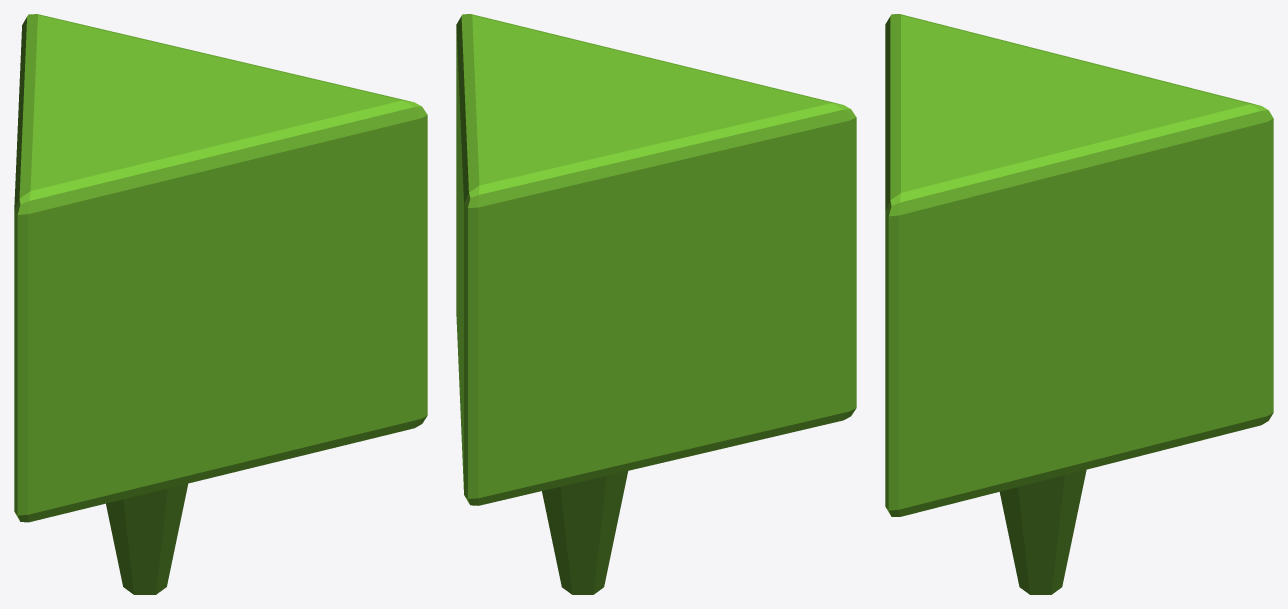
File: pin_4.fbx
The picture shows the model from 3 angles, left to right: view 1: azimuth 30°, elevation 25°; view 2: azimuth 150°, elevation 25°; view 3: azimuth 270°, elevation 25°; orthographic projection. The views are drawn at different scales.
Visible parts, largest first — view 1: Pin4; view 2: Pin4; view 3: Pin4.
Part boxes in pixels (x1,y1,x2,y2): Pin4: (14,14,427,594); Pin4: (456,14,856,594); Pin4: (885,14,1273,594).
Bounding box in the file's own units: 9.78 × 11.25 × 8.2.
